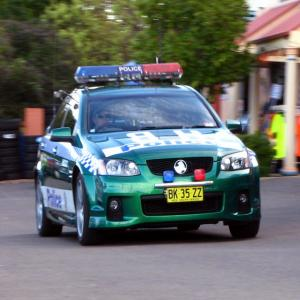Vehicle-registration-plate: (167, 186, 205, 204)
